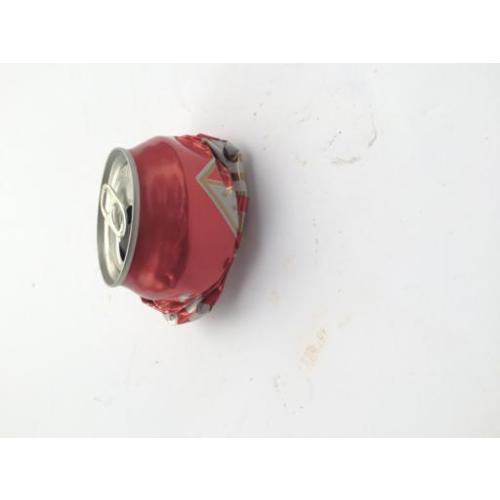metal: (99, 132, 247, 322)
